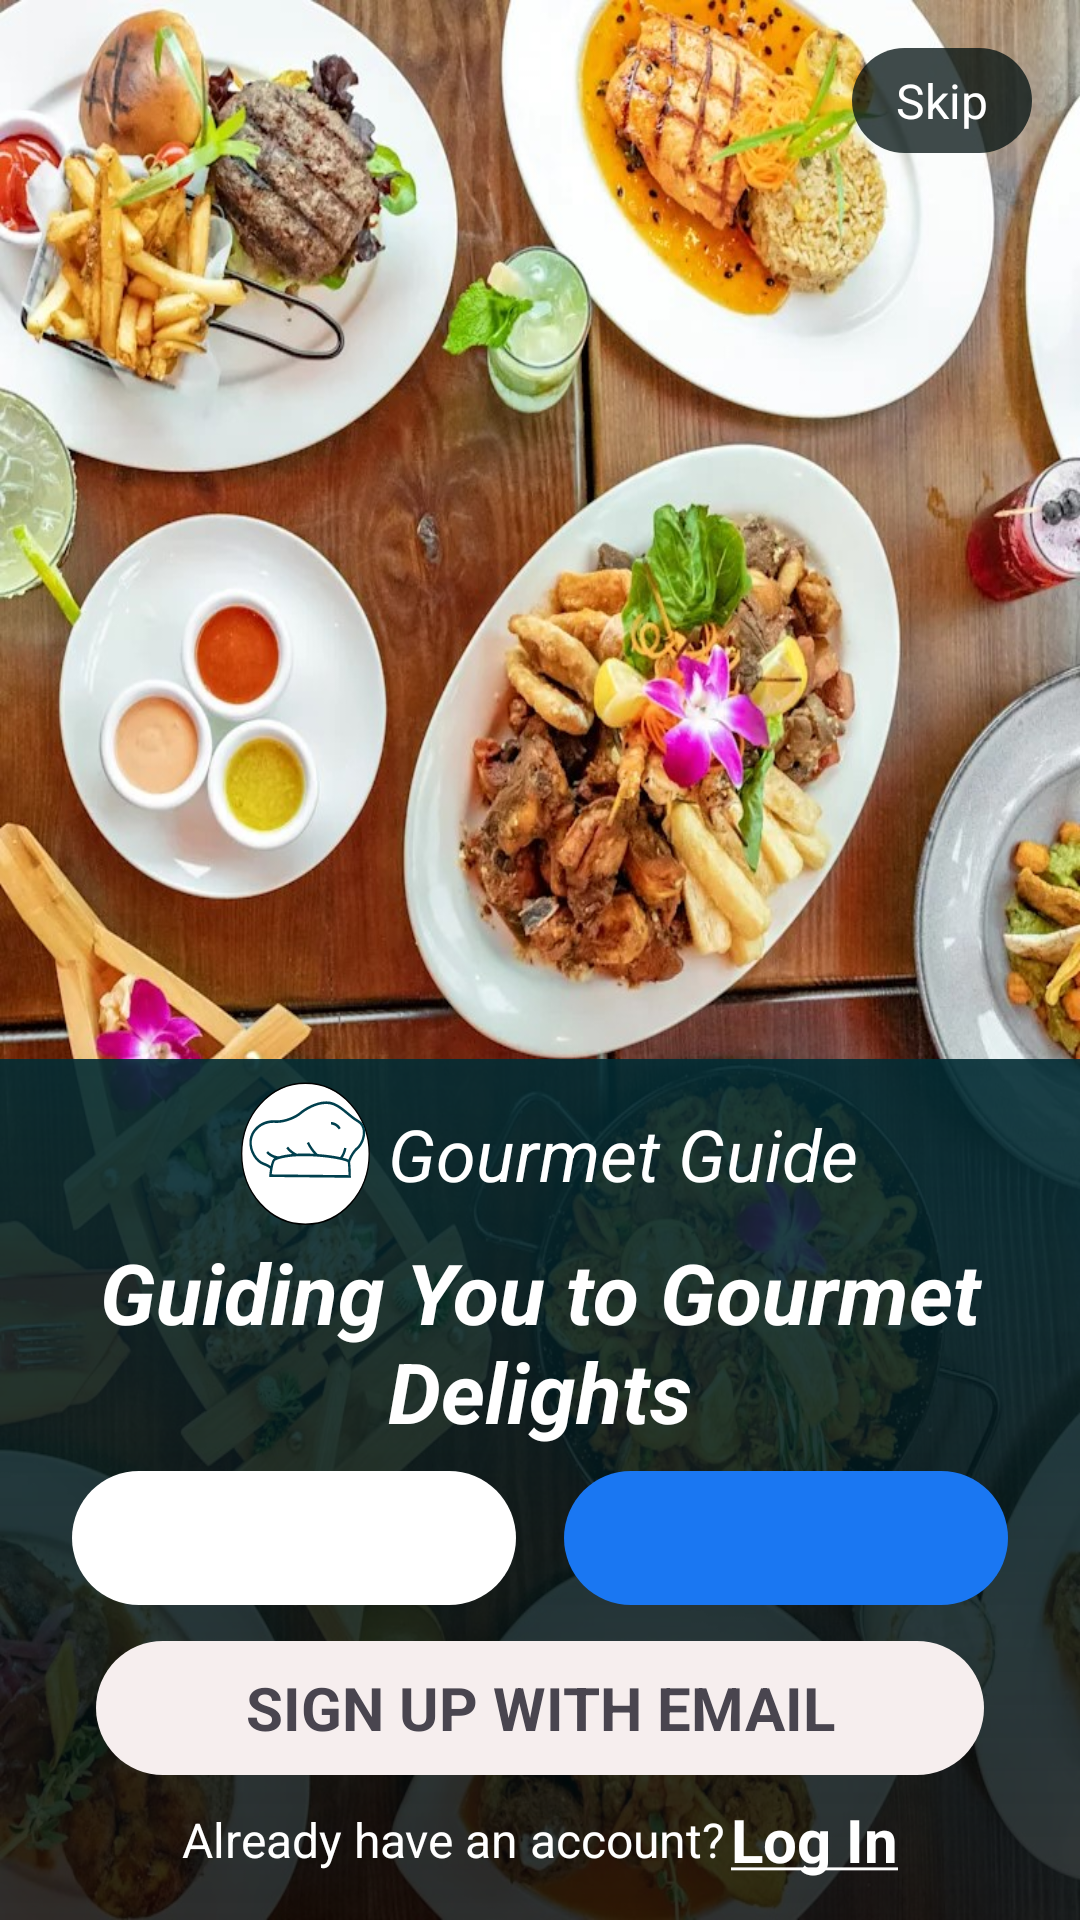

Named icons in this screenshot (1080x1920) and their centers, (x,y):
App Icon: (305,1154)
